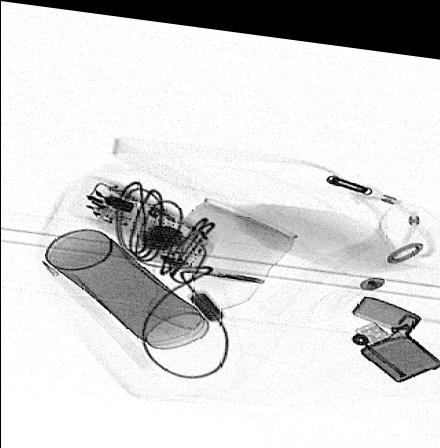Lighter: (350, 284, 439, 373)
